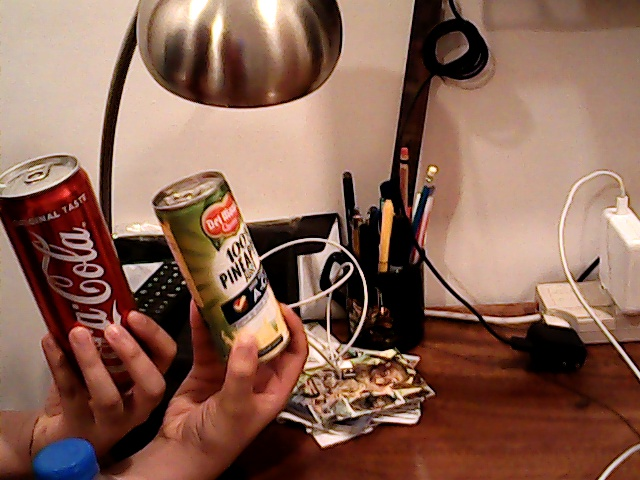Cola: (1, 152, 147, 372)
Pine Juice: (150, 159, 289, 364)
